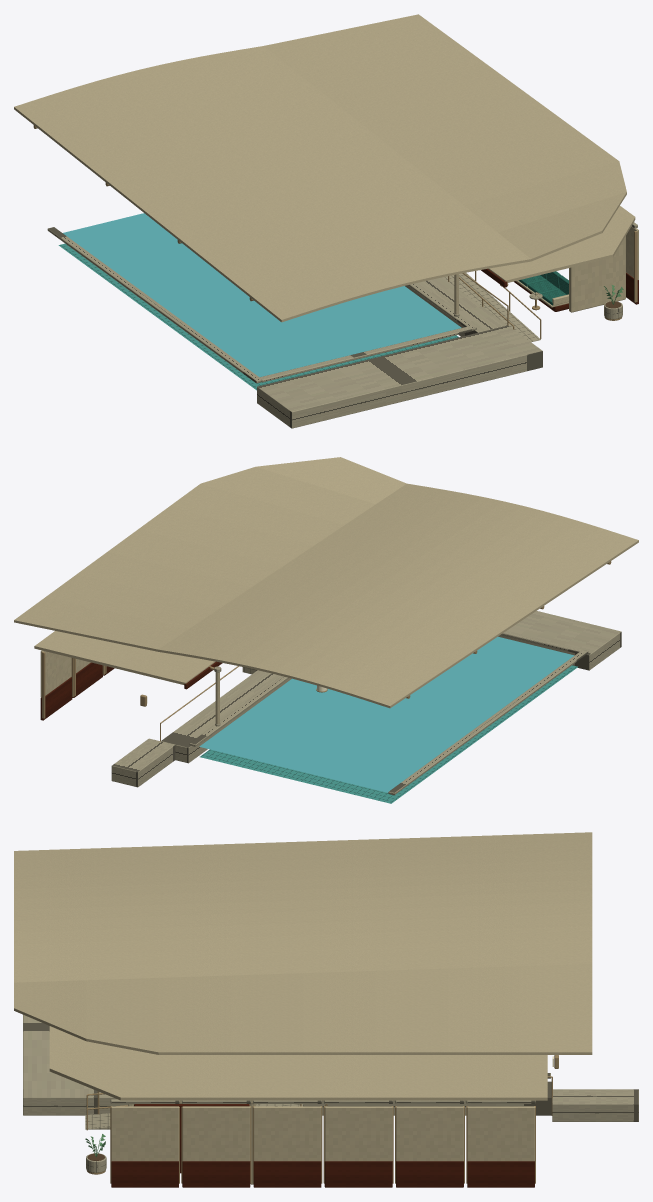
The model's file is Group6TidalNorthRoom_r002.glb.
3 views of the same model, one above another, from view 1: azimuth 30°, elevation 25°; view 2: azimuth 150°, elevation 25°; view 3: azimuth 270°, elevation 25° (orthographic). The views are drawn at different scales.
Parts seen in each view (by area): view 1: G6_TIDAL__water_face, G6_TIDAL__north_wet_turn, G6_TIDAL__vault_infill_7, G6_TIDAL__vault_infill_4, G6_TIDAL__vault_infill_0, G6_TIDAL__vault_infill_1, G6_TIDAL__vault_infill_2, G6_TIDAL__vault_infill_6, G6_TIDAL__vault_infill_5, G6_TIDAL__vault_infill_3, G6_TIDAL__east_roof_infill_5, G6_TIDAL__east_roof_infill_4 (+13 smaller); view 2: G6_TIDAL__water_face, G6_TIDAL__vault_infill_0, G6_TIDAL__vault_infill_4, G6_TIDAL__vault_infill_2, G6_TIDAL__vault_infill_1, G6_TIDAL__vault_infill_5, G6_TIDAL__vault_infill_3, G6_TIDAL__vault_infill_6, G6_TIDAL__vault_infill_7, G6_TIDAL__east_roof_infill_0, G6_TIDAL__east_roof_infill_5, G6_TIDAL__east_roof_infill_4 (+15 smaller); view 3: G6_TIDAL__vault_infill_1, G6_TIDAL__vault_infill_7, G6_TIDAL__vault_infill_3, G6_TIDAL__vault_infill_6, G6_TIDAL__vault_infill_0, G6_TIDAL__vault_infill_2, G6_TIDAL__vault_infill_5, G6_TIDAL__vault_infill_4, G6_TIDAL__east_roof_infill_0, G6_TIDAL__east_roof_infill_1, G6_TIDAL__east_roof_infill_2, G6_TIDAL__east_roof_infill_3 (+27 smaller).
Boxes of the visible parts, left/top/right/bottom form: G6_TIDAL__water_face: left=63, top=213, right=461, bottom=377; G6_TIDAL__north_wet_turn: left=257, top=325, right=542, bottom=428; G6_TIDAL__vault_infill_7: left=248, top=232, right=530, bottom=322; G6_TIDAL__vault_infill_4: left=147, top=152, right=430, bottom=241; G6_TIDAL__vault_infill_0: left=14, top=46, right=296, bottom=135; G6_TIDAL__vault_infill_1: left=47, top=72, right=329, bottom=162; G6_TIDAL__vault_infill_2: left=81, top=99, right=363, bottom=188; G6_TIDAL__vault_infill_6: left=214, top=206, right=497, bottom=295; G6_TIDAL__vault_infill_5: left=181, top=179, right=463, bottom=268; G6_TIDAL__vault_infill_3: left=114, top=126, right=396, bottom=215; G6_TIDAL__east_roof_infill_5: left=431, top=137, right=618, bottom=205; G6_TIDAL__east_roof_infill_4: left=397, top=112, right=585, bottom=178; G6_TIDAL__water_face: left=199, top=636, right=574, bottom=792; G6_TIDAL__vault_infill_0: left=158, top=629, right=421, bottom=708; G6_TIDAL__vault_infill_4: left=283, top=546, right=545, bottom=624; G6_TIDAL__vault_infill_2: left=221, top=587, right=483, bottom=666; G6_TIDAL__vault_infill_1: left=189, top=608, right=452, bottom=687; G6_TIDAL__vault_infill_5: left=314, top=525, right=576, bottom=604; G6_TIDAL__vault_infill_3: left=252, top=566, right=514, bottom=645; G6_TIDAL__vault_infill_6: left=345, top=504, right=607, bottom=583; G6_TIDAL__vault_infill_7: left=376, top=483, right=638, bottom=562; G6_TIDAL__east_roof_infill_0: left=14, top=597, right=188, bottom=651; G6_TIDAL__east_roof_infill_5: left=170, top=483, right=344, bottom=545; G6_TIDAL__east_roof_infill_4: left=138, top=506, right=313, bottom=566; G6_TIDAL__vault_infill_1: left=447, top=834, right=519, bottom=968; G6_TIDAL__vault_infill_7: left=14, top=848, right=86, bottom=982; G6_TIDAL__vault_infill_3: left=303, top=839, right=375, bottom=973; G6_TIDAL__vault_infill_6: left=86, top=846, right=158, bottom=980; G6_TIDAL__vault_infill_0: left=520, top=832, right=592, bottom=966; G6_TIDAL__vault_infill_2: left=375, top=837, right=447, bottom=970; G6_TIDAL__vault_infill_5: left=158, top=844, right=230, bottom=977; G6_TIDAL__vault_infill_4: left=231, top=841, right=302, bottom=975; G6_TIDAL__east_roof_infill_0: left=520, top=964, right=592, bottom=1054; G6_TIDAL__east_roof_infill_1: left=447, top=966, right=519, bottom=1054; G6_TIDAL__east_roof_infill_2: left=375, top=968, right=447, bottom=1054; G6_TIDAL__east_roof_infill_3: left=303, top=971, right=375, bottom=1054.
Bounding box in the file's own units: 22.7 × 7.46 × 28.1.
10 materials, 5 textured.
